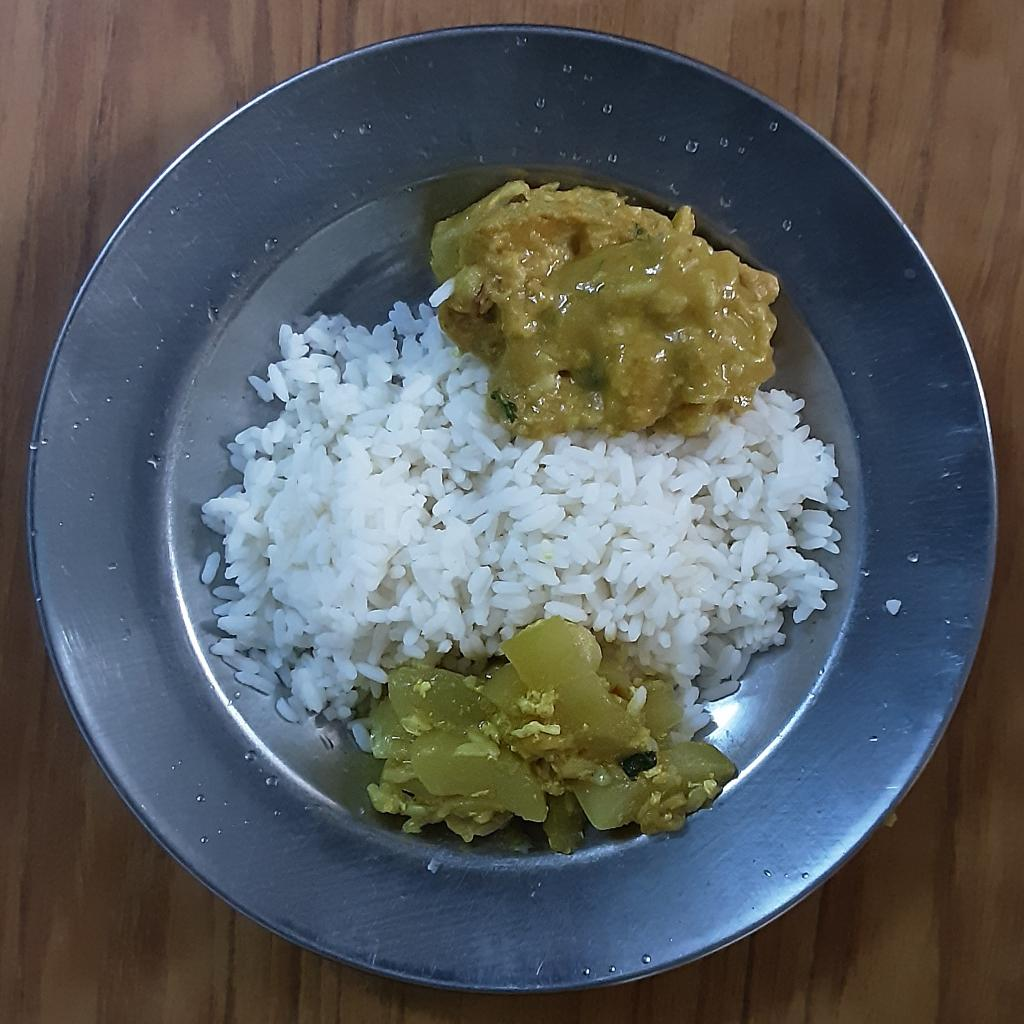kochu: (429, 185, 779, 437)
lau: (362, 614, 738, 853)
rice: (196, 301, 850, 762)
